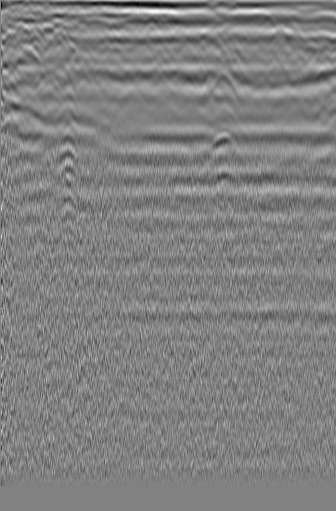가스: (202, 129, 243, 158)
상수: (39, 16, 72, 39)
오수: (279, 20, 309, 55)
우수: (135, 15, 165, 44)
